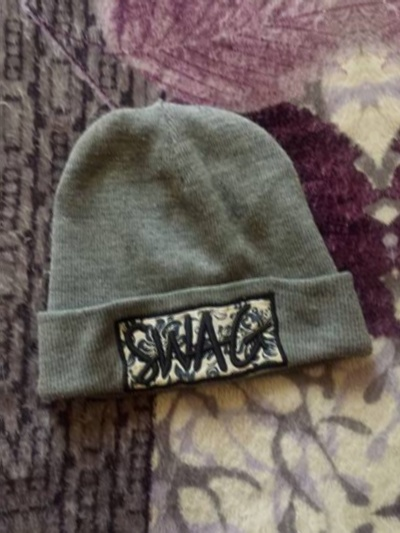Hat: (8, 60, 388, 437), (386, 1, 400, 379)
